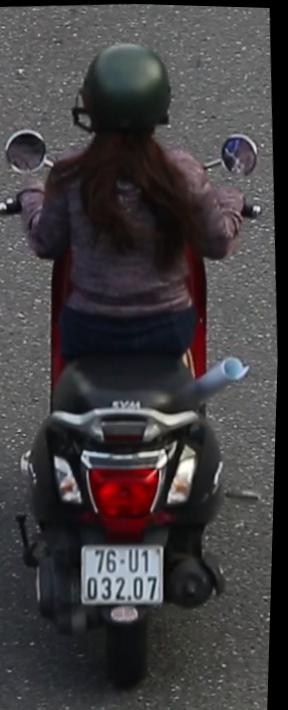LP: (79, 531, 175, 612)
helmet: (72, 35, 180, 148)
